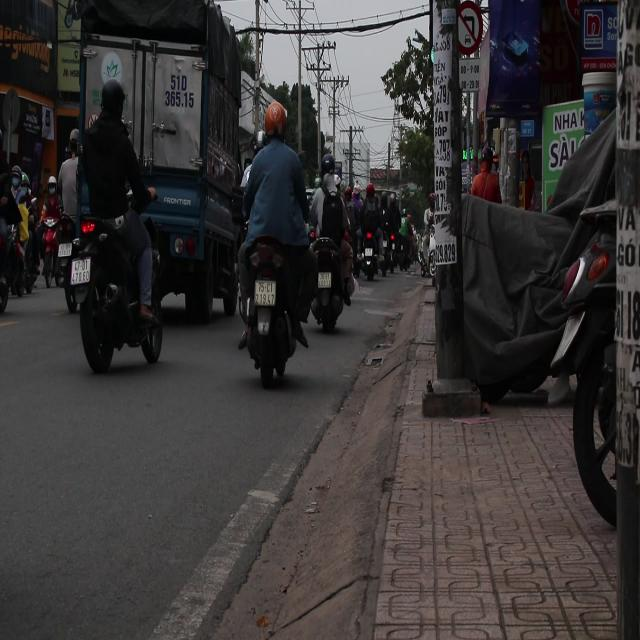motorbike: (65, 207, 167, 376), (238, 236, 305, 389), (312, 231, 348, 342), (36, 211, 75, 291), (358, 213, 386, 282), (397, 212, 418, 274)
truck: (78, 3, 254, 329)
